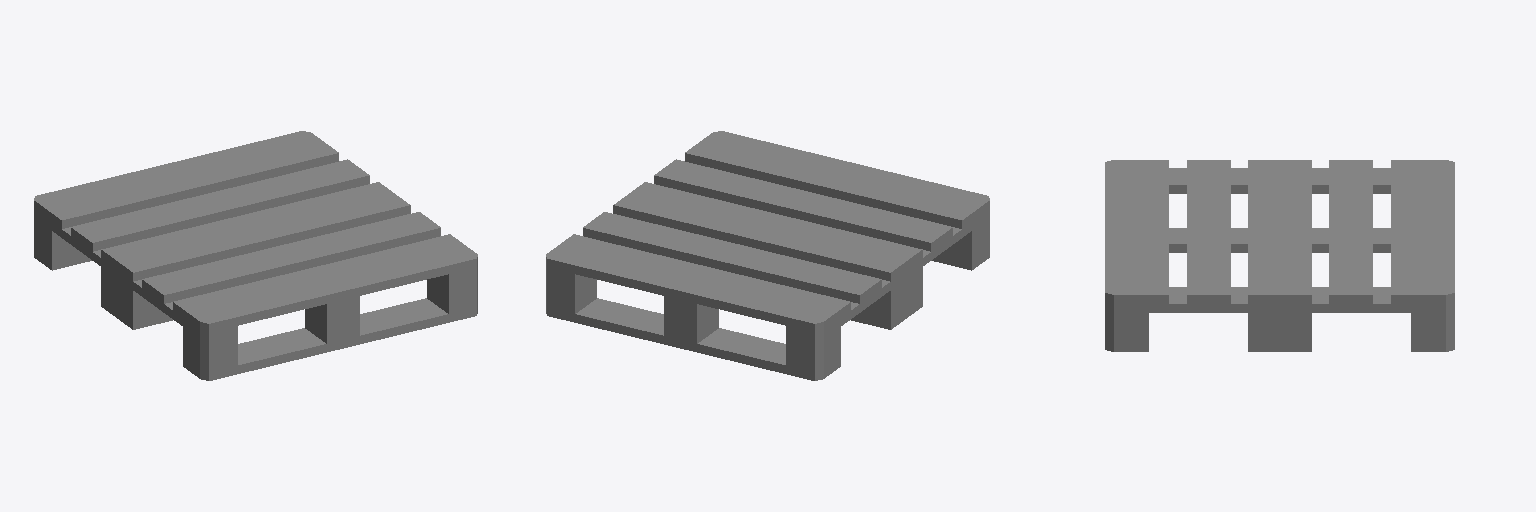
File: europalette.obj
3 views of the same model, side by side, from view 1: azimuth 30°, elevation 25°; view 2: azimuth 150°, elevation 25°; view 3: azimuth 270°, elevation 25° (orthographic).
Visible parts, largest first — view 1: palette_Object001; view 2: palette_Object001; view 3: palette_Object001.
Boxes of the visible parts, x1,y1,x2,y2 form: palette_Object001: [34, 131, 477, 380]; palette_Object001: [546, 131, 989, 380]; palette_Object001: [1105, 160, 1454, 351].
Bounding box in the file's own units: 5.59 × 1.1 × 6.09.